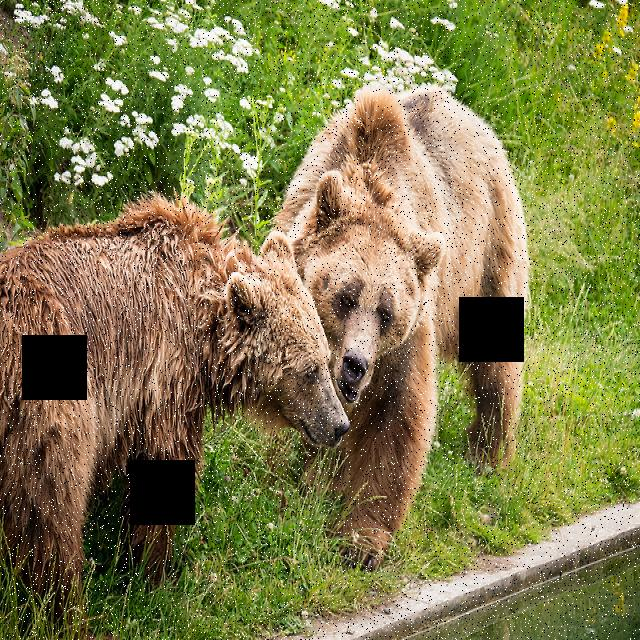Bear: (3, 188, 355, 622), (263, 75, 544, 566)
